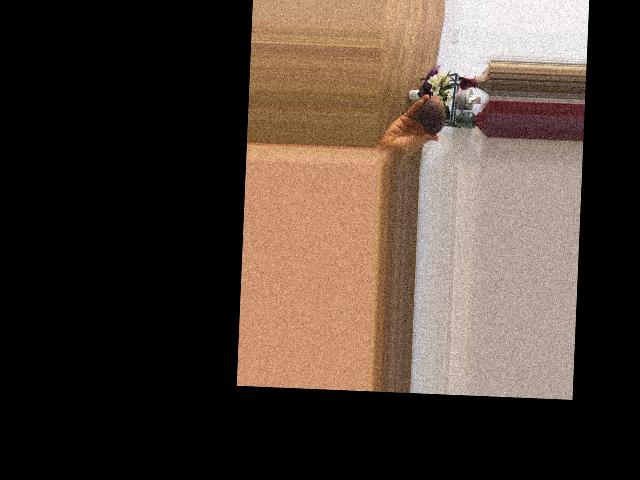beet: (400, 96, 450, 134)
